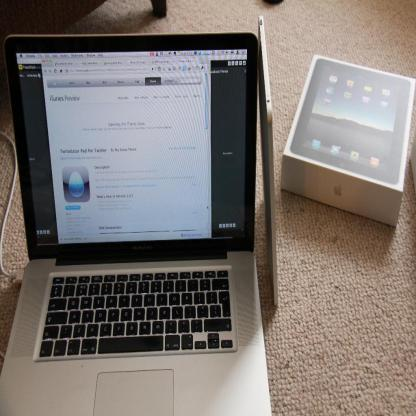board: (6, 12, 278, 413)
